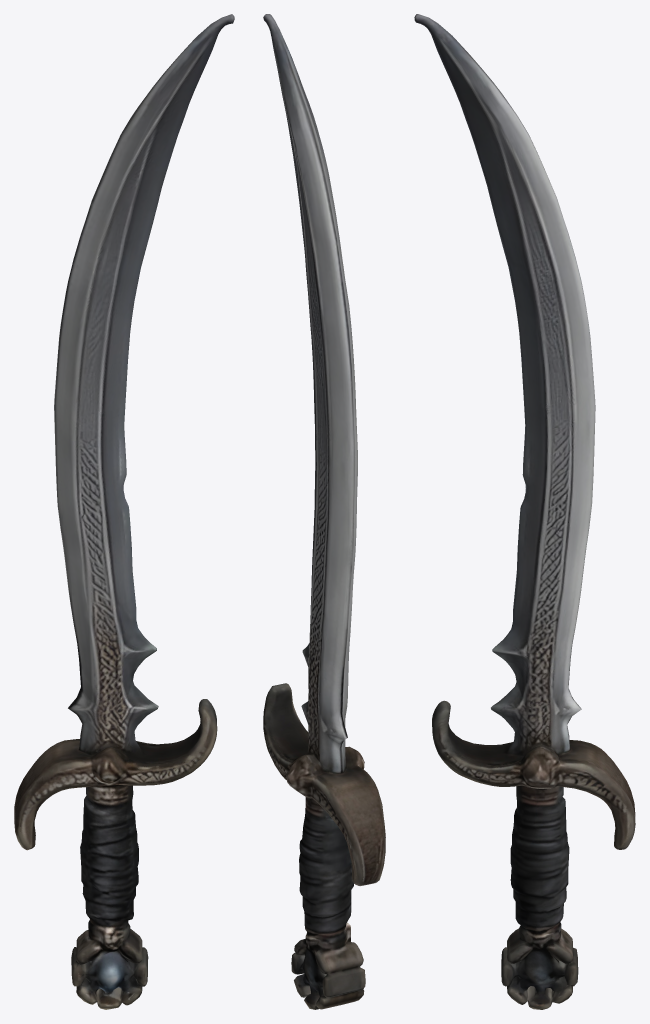
File: scimitar.glb
3 renders of one model, left to right at view 1: azimuth 90°, elevation 25°; view 2: azimuth 210°, elevation 25°; view 3: azimuth 270°, elevation 25°, orthographic. The views are drawn at different scales.
Parts seen in each view (by area): view 1: scimitar; view 2: scimitar; view 3: scimitar.
Part boxes in pixels (x1,y1,x2,y2): scimitar: (14,14,234,1009); scimitar: (263,14,385,1009); scimitar: (414,14,635,1009).
Size of the model in its own units: 0.0884 by 1.08 by 0.2188.
1 material, 1 textured.
